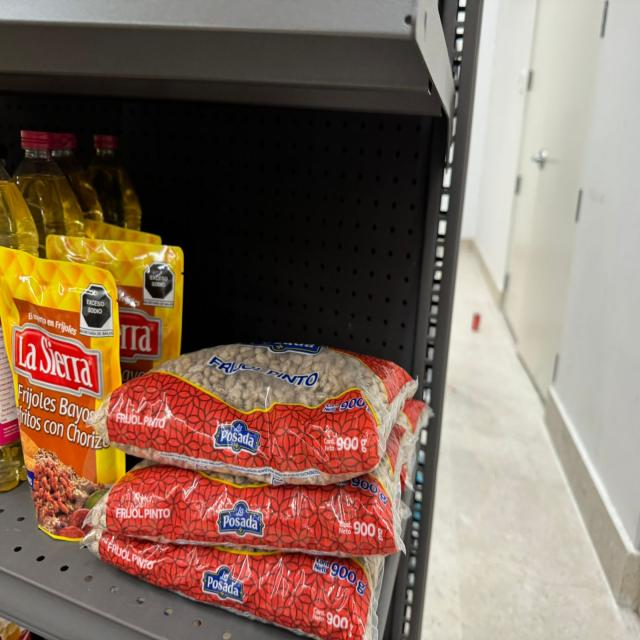Aceite Sabrosano 850ml: (13, 131, 84, 256), (87, 134, 141, 230), (52, 133, 102, 220), (0, 322, 23, 490), (0, 163, 38, 256)
Frijol La Sierra Chorizo 430 bolsa: (0, 250, 125, 540), (46, 220, 184, 379)
Frijol Pinto La Posada 900gr: (86, 344, 416, 485), (99, 532, 374, 639), (100, 464, 398, 557)
